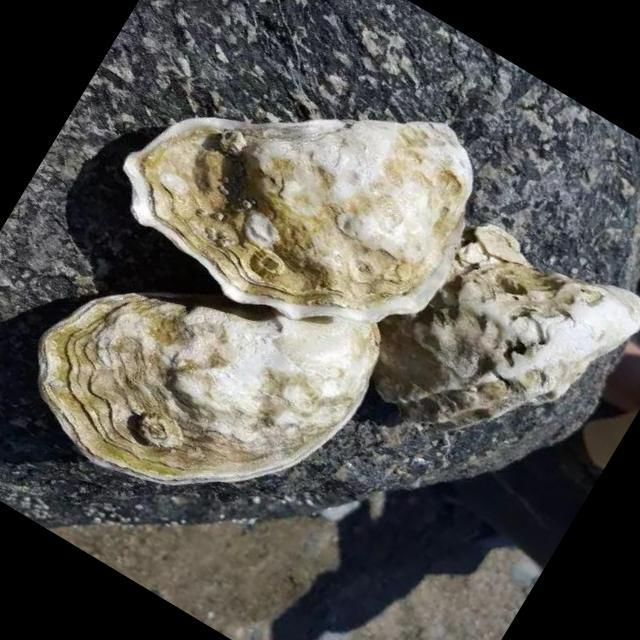Oyster- Indeterminate: (86, 0, 515, 392), (0, 177, 400, 568), (358, 196, 640, 502)
